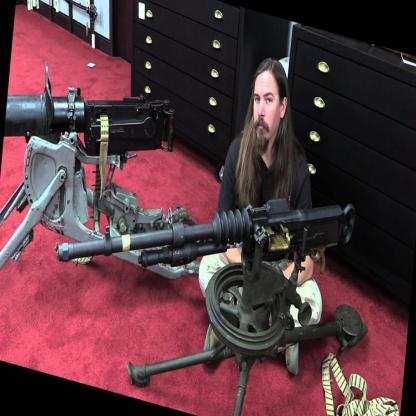rifle: (57, 121, 365, 346)
